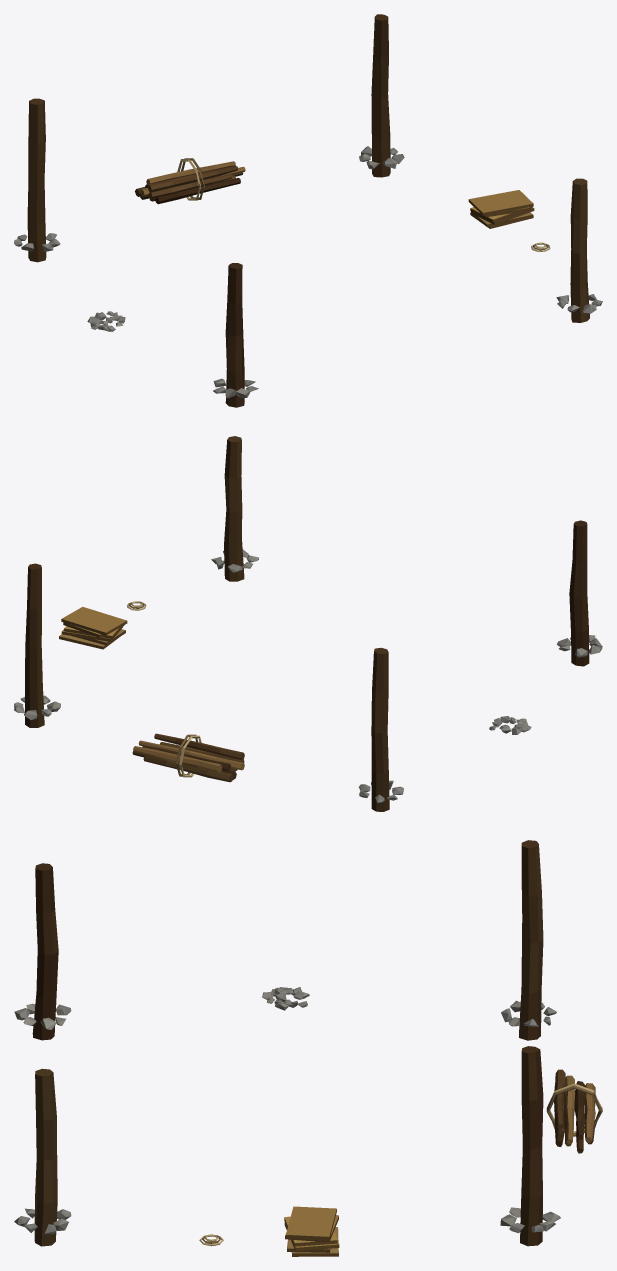
The model's file is covered_depot_1_pali.glb.
The picture shows the model from 3 angles, top to bottom: view 1: azimuth 30°, elevation 25°; view 2: azimuth 150°, elevation 25°; view 3: azimuth 270°, elevation 25°; orthographic projection. The views are drawn at different scales.
Visible parts, largest first — view 1: covered_depot_1_pali; view 2: covered_depot_1_pali; view 3: covered_depot_1_pali.
Part boxes in pixels (x1,y1,x2,y2): covered_depot_1_pali: [14, 14, 602, 407]; covered_depot_1_pali: [14, 436, 602, 811]; covered_depot_1_pali: [14, 840, 602, 1256].
Bounding box in the file's own units: 10.03 × 3.36 × 9.33.
